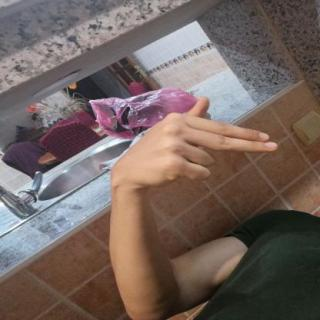GHAYN: (94, 86, 291, 199)
